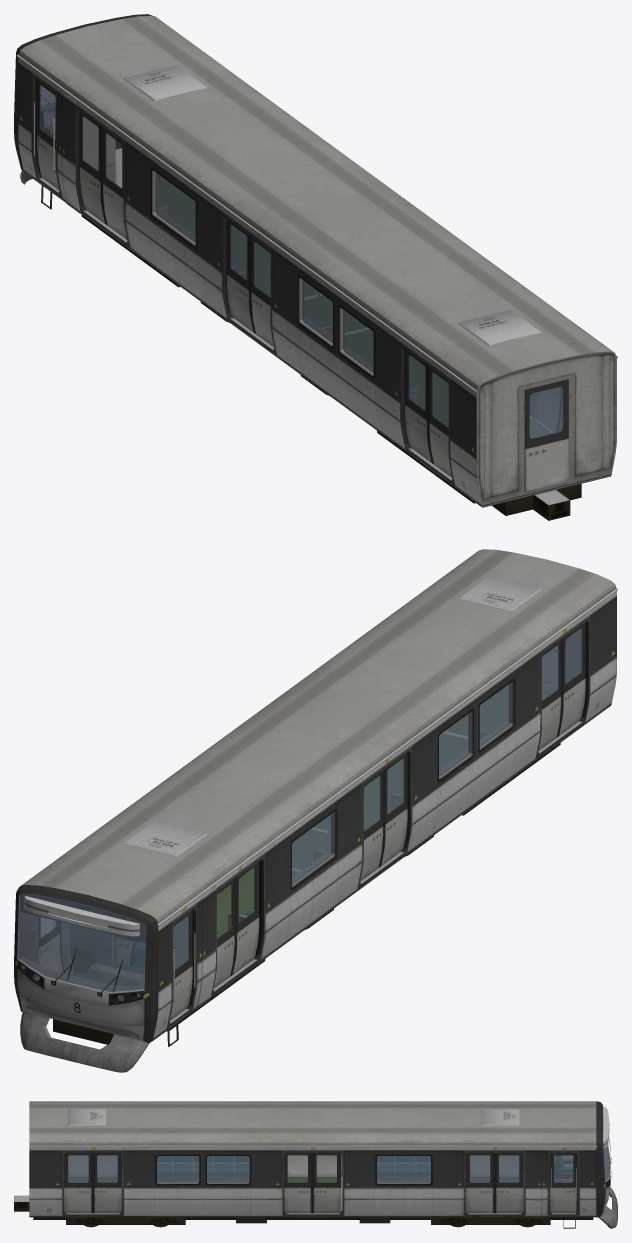
File: F_Train_Metro_2.fbx
3 renders of one model, top to bottom at view 1: azimuth 30°, elevation 25°; view 2: azimuth 150°, elevation 25°; view 3: azimuth 270°, elevation 25°, orthographic. The views are drawn at different scales.
Parts seen in each view (by area): view 1: SubwayTrain_01_inside.001; view 2: SubwayTrain_01_inside.001; view 3: SubwayTrain_01_inside.001.
Part boxes in pixels (x1,y1,x2,y2): SubwayTrain_01_inside.001: (14, 14, 617, 520); SubwayTrain_01_inside.001: (14, 549, 617, 1072); SubwayTrain_01_inside.001: (14, 1101, 617, 1228).
Bounding box in the file's own units: 3.81 × 4.16 × 22.66.
